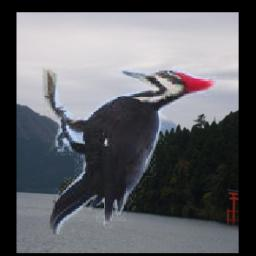Woodpecker: (43, 69, 218, 235)
